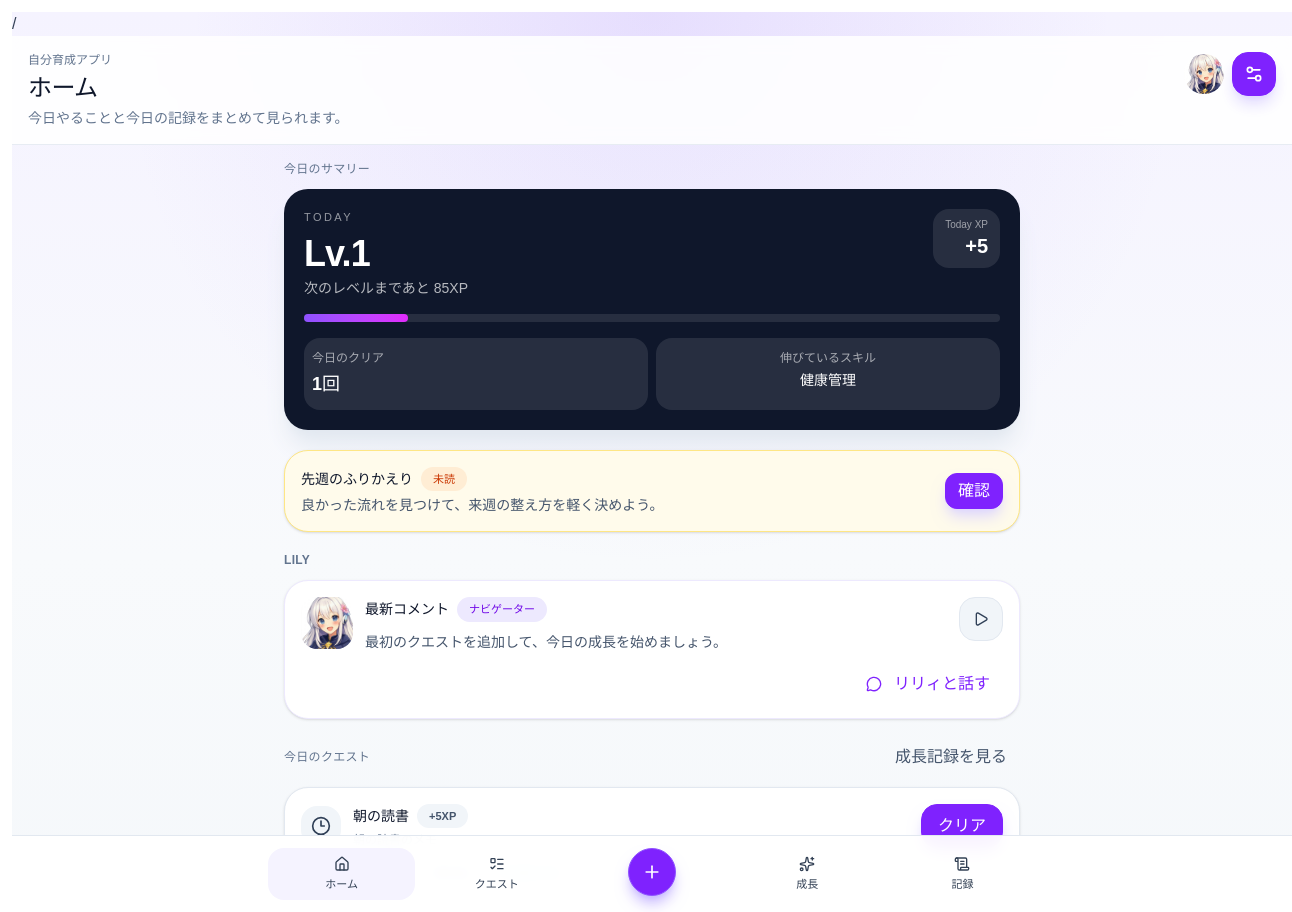
it: records screen filters › navigates from home to records with the today filter
Step 1. Click the button with aria-label "今日のクリア回数を記録で見る" → (348, 358), box left=304, top=338, right=648, bottom=410
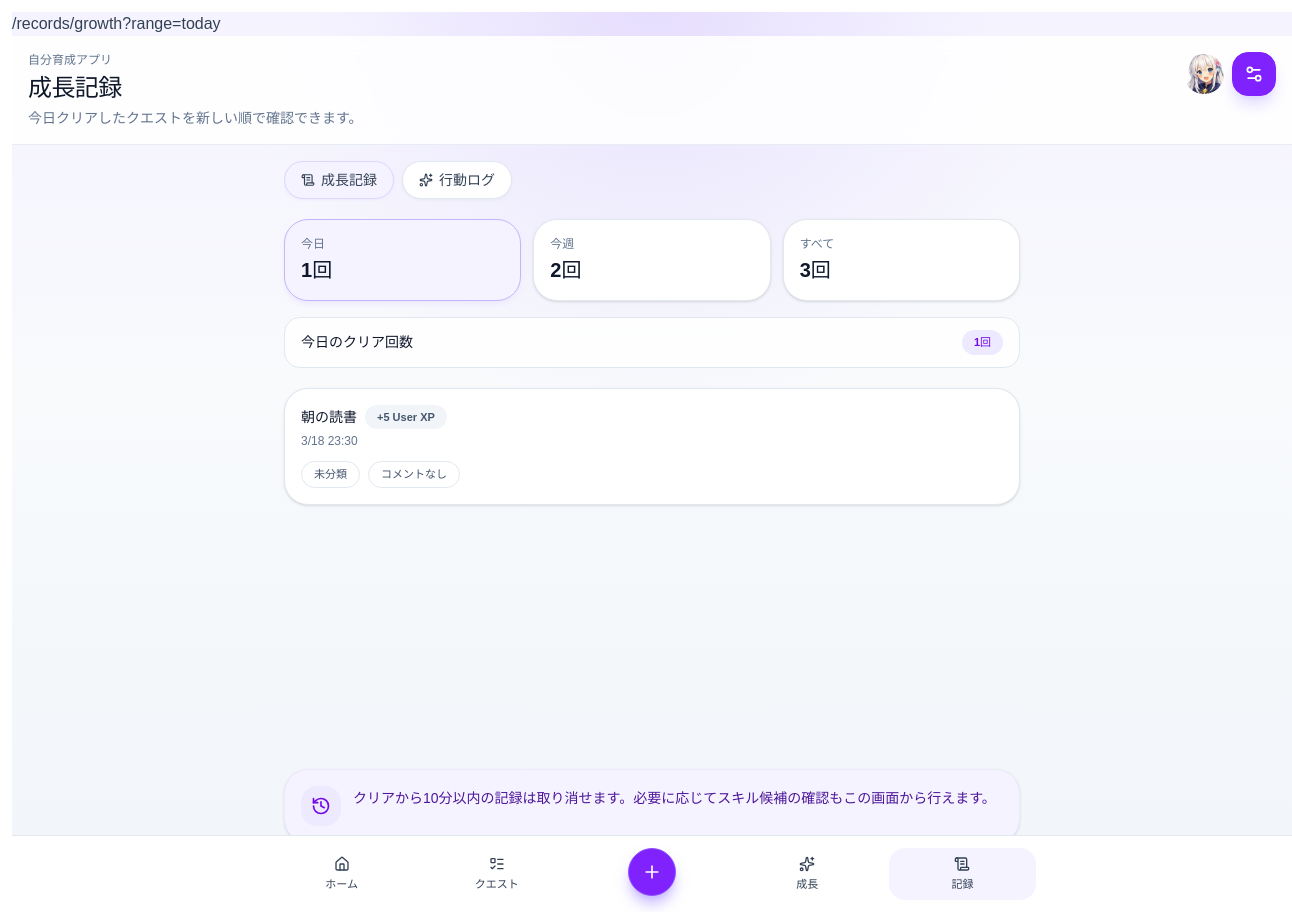
Expected: the text "朝の読書" is shown, left=301, top=407, right=357, bottom=427
Expected: the text with test id "location" reads "/records/growth?range=today", left=12, top=15, right=221, bottom=32
